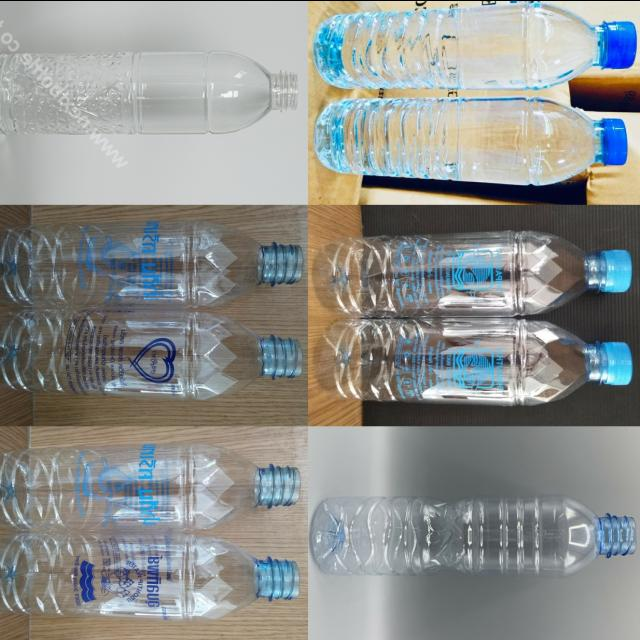plastik: (313, 2, 636, 89), (314, 97, 627, 185), (316, 317, 632, 404), (314, 230, 632, 316), (0, 309, 303, 399), (310, 494, 637, 577), (0, 220, 303, 308), (0, 442, 300, 530), (0, 533, 300, 619), (0, 50, 297, 134)
